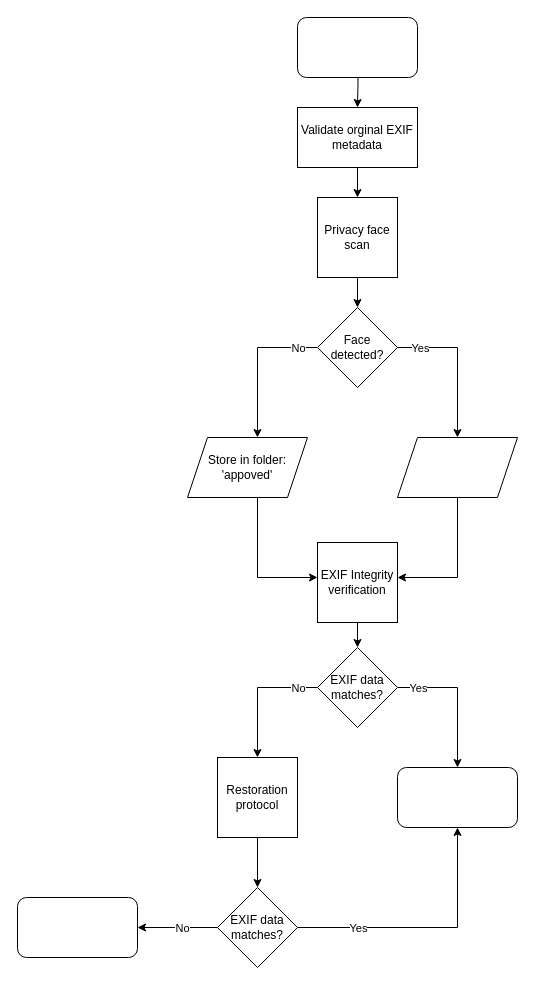
The diagram is 535 pixels wide and 985 high, and some of its shapes have lost their labels. Each missing label, with the centre of its shape:
"Metadata not valid for production" belongs at (x=77, y=927).
"Metadata verified as valid for production" belongs at (x=457, y=797).
"Store in folder: 'restricted-faces'" belongs at (x=457, y=467).
"System image" belongs at (x=357, y=47).
